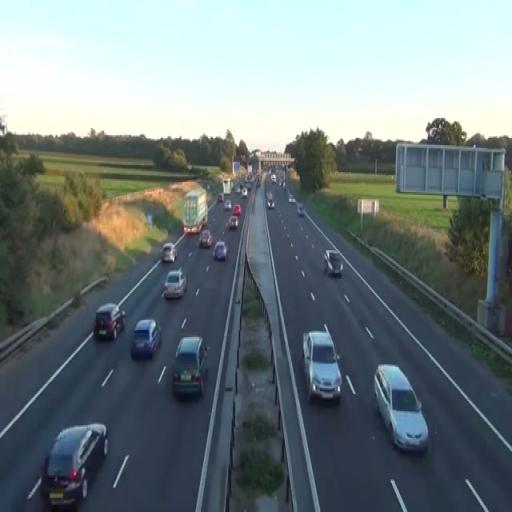Bus: (182, 188, 208, 234)
Car: (40, 422, 109, 508), (373, 364, 429, 454), (302, 325, 342, 405), (172, 336, 208, 398), (130, 318, 162, 360), (93, 303, 126, 341), (162, 268, 187, 299), (322, 250, 344, 278), (160, 242, 178, 263), (213, 241, 228, 261), (198, 230, 213, 249), (229, 216, 238, 230)
